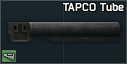SKS TAPCO Intrafuse buffer tube: (0, 0, 127, 64)
